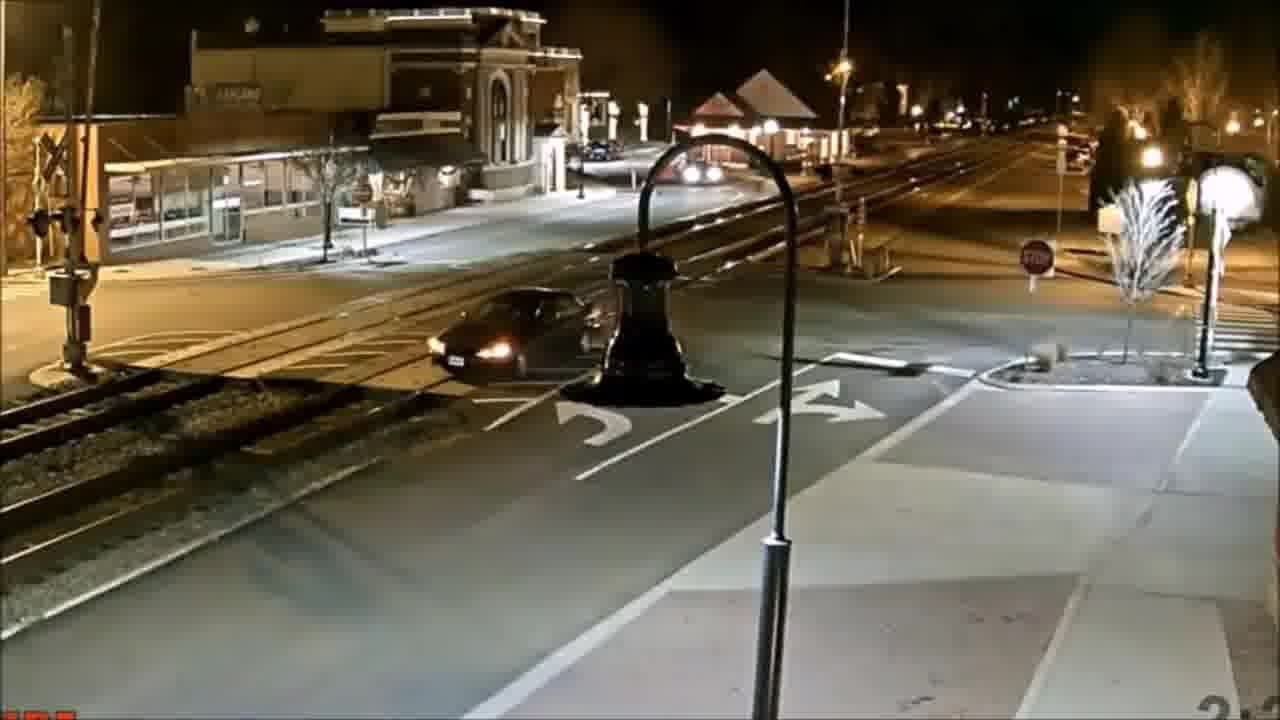crossing railway track: (418, 278, 602, 374)
